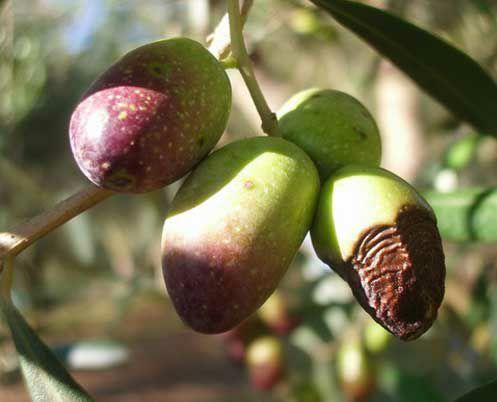Anthracnose: (342, 200, 450, 346)
